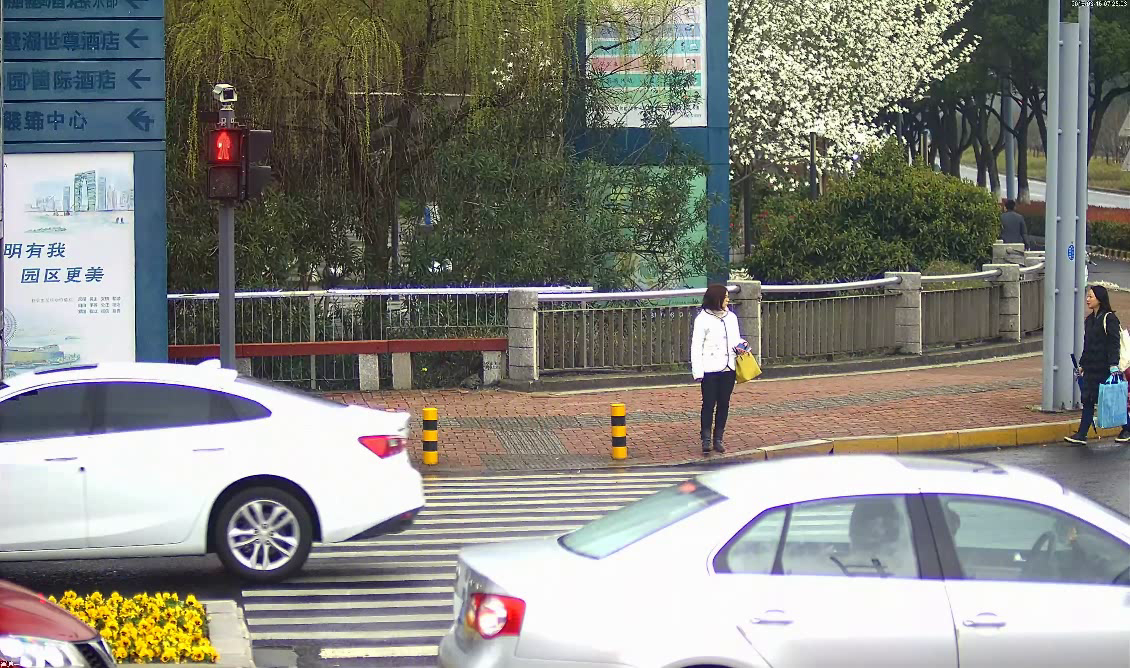person: (680, 281, 749, 459), (1058, 278, 1128, 449), (994, 195, 1036, 254)
